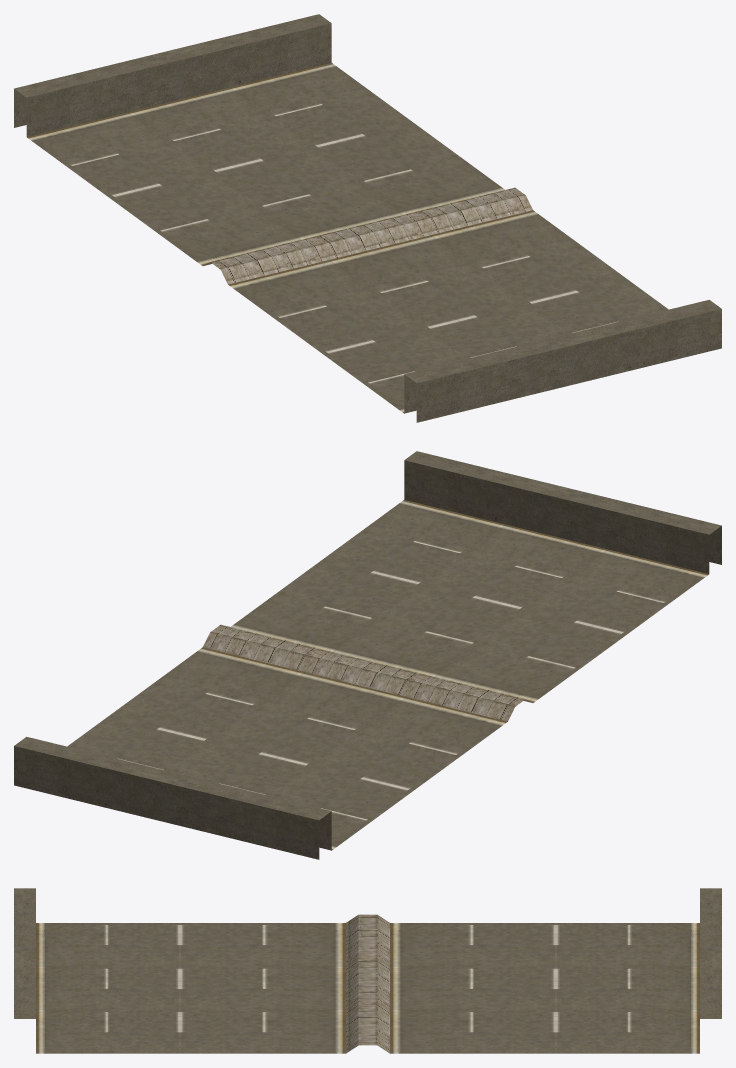
Rendered from Road2_Part_12.fbx.
3 views of the same model, one above another, from view 1: azimuth 30°, elevation 25°; view 2: azimuth 150°, elevation 25°; view 3: azimuth 270°, elevation 25° (orthographic). The views are drawn at different scales.
Visible parts, largest first — view 1: Road_Part_17; view 2: Road_Part_17; view 3: Road_Part_17.
Boxes of the visible parts, left/top/right/bottom form: Road_Part_17: left=14, top=14, right=721, bottom=422; Road_Part_17: left=14, top=451, right=721, bottom=859; Road_Part_17: left=14, top=888, right=721, bottom=1053.
Bounding box in the file's own units: 1400 × 173 × 3200.
